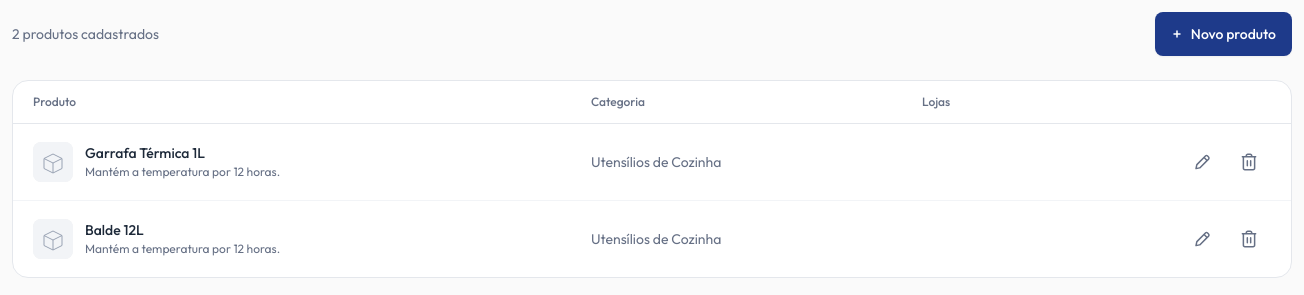
Test: ProductAdminPanel › drops a product that was deleted elsewhere when opening it for edit
This screenshot has width=1304, height=295.
Click the button named "Editar Balde 12L": (1201, 239) [1179,217,1223,261]
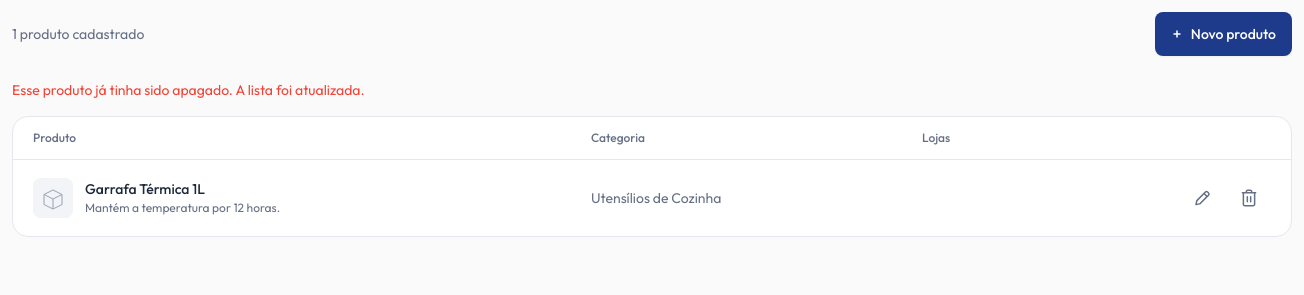
Result: the text "Esse produto já tinha sido apagado. A lista foi atualizada." is shown at [12,81,365,99]
Result: the link "Balde 12L" is gone
